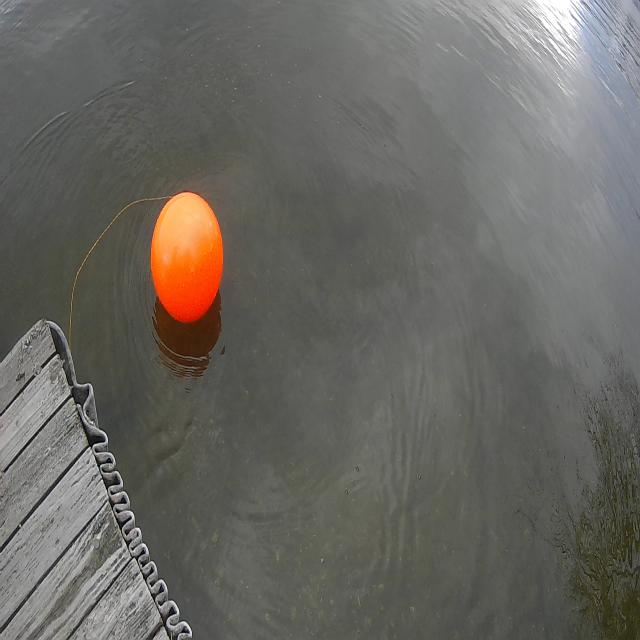Buoy: (148, 187, 228, 333)
